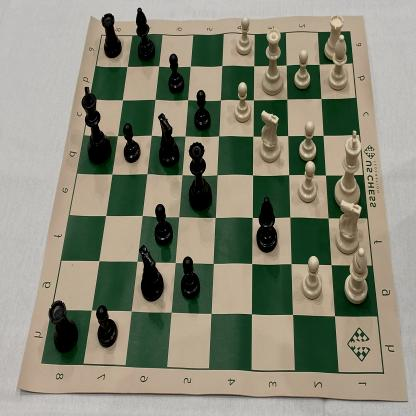black-bishop: (255, 196, 279, 256), (134, 4, 156, 62)
black-king: (81, 82, 112, 167)
black-knight: (156, 111, 180, 168), (100, 10, 122, 61)
black-pawn: (95, 301, 119, 350), (180, 254, 202, 300), (153, 202, 175, 246), (120, 122, 142, 166), (191, 88, 213, 132), (166, 50, 187, 94)
black-rook: (47, 296, 79, 354)
white-bishop: (342, 245, 371, 305), (327, 34, 352, 92)
white-king: (333, 128, 364, 210)
white-knight: (188, 139, 213, 213), (333, 199, 364, 255), (138, 242, 165, 304), (258, 110, 283, 165)
white-pawn: (296, 160, 322, 206), (300, 255, 324, 302), (292, 49, 314, 94), (298, 118, 319, 164), (231, 81, 252, 124), (234, 14, 254, 58)
white-queen: (260, 24, 286, 98)
white-rook: (323, 13, 345, 62)
